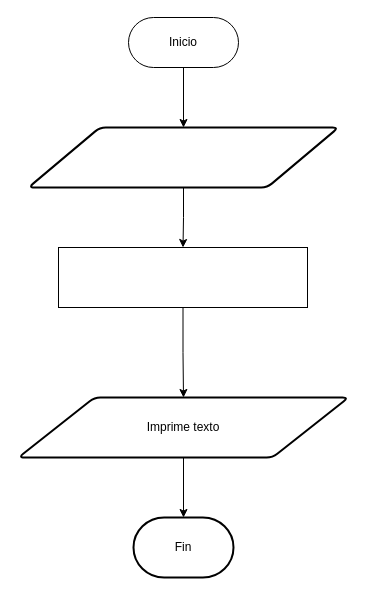
Some shapes in this 366 by 596 pixel diagram are drawn without their labels. Each missing label, with the centre of its shape:
invierte texto: point 183,277
Solicita al usuario una palabra o frase: point 183,157
